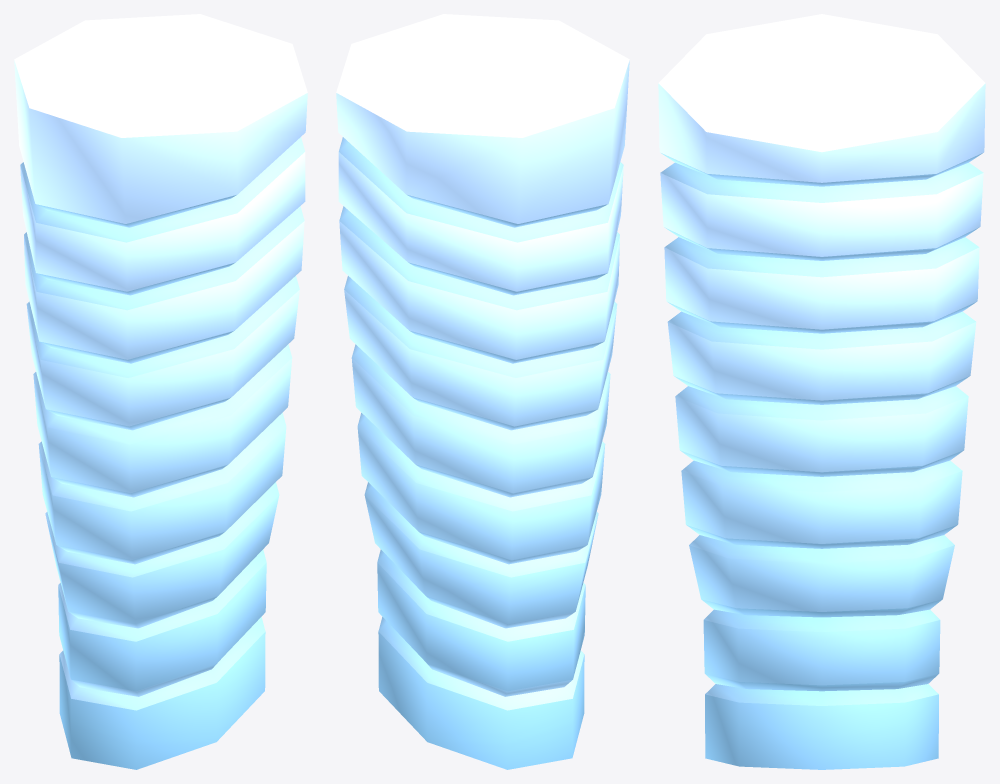
File: steel_grip_037.glb
3 renders of one model, left to right at view 1: azimuth 30°, elevation 25°; view 2: azimuth 150°, elevation 25°; view 3: azimuth 270°, elevation 25°, orthographic. The views are drawn at different scales.
Visible parts, largest first — view 1: steel_grip_037; view 2: steel_grip_037; view 3: steel_grip_037.
Part boxes in pixels (box(x1,y1,x2,y2)): steel_grip_037: box(14, 14, 307, 769); steel_grip_037: box(336, 14, 629, 769); steel_grip_037: box(658, 14, 985, 769).
Size of the model in its own units: 1.51 by 3.61 by 1.51.
Materials: 1 (1 with a texture image).
